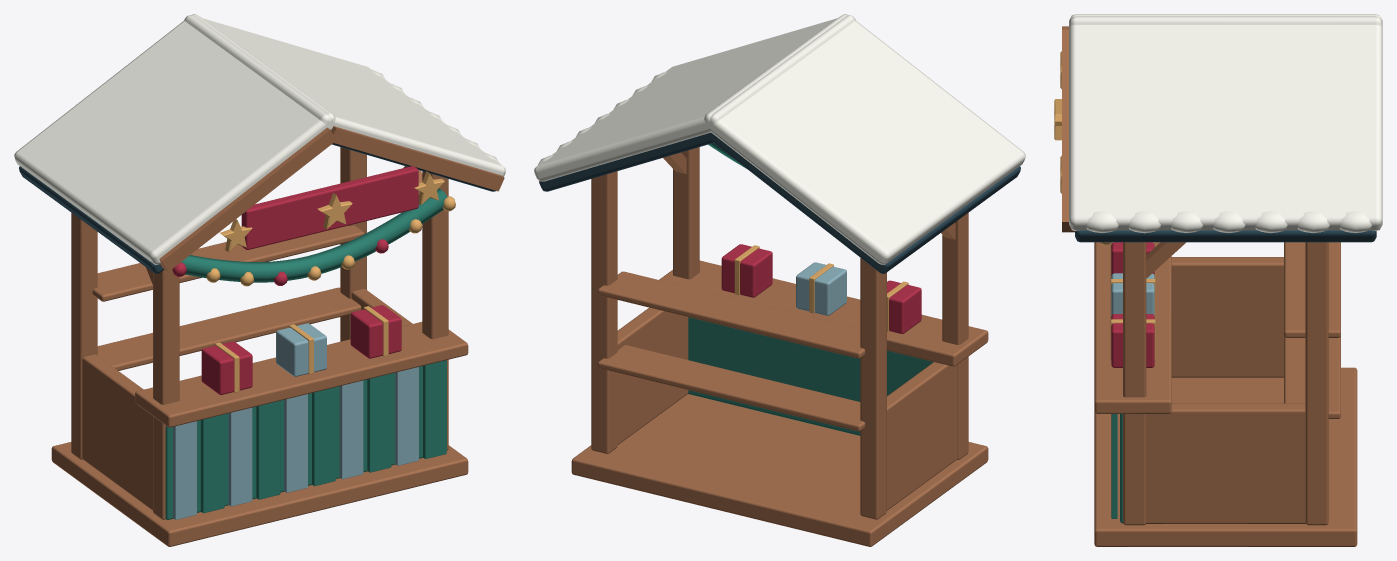
The model's file is toystall.glb.
3 views of the same model, side by side, from view 1: azimuth 30°, elevation 25°; view 2: azimuth 150°, elevation 25°; view 3: azimuth 270°, elevation 25° (orthographic). The views are drawn at different scales.
Parts seen in each view (by area): view 1: toy-market-stall; view 2: toy-market-stall; view 3: toy-market-stall.
Part boxes in pixels (box(x1,y1,x2,y2)): toy-market-stall: box(14, 14, 505, 546); toy-market-stall: box(534, 14, 1025, 546); toy-market-stall: box(1054, 14, 1382, 546).
Bounding box in the file's own units: 3 × 3.21 × 2.13.
